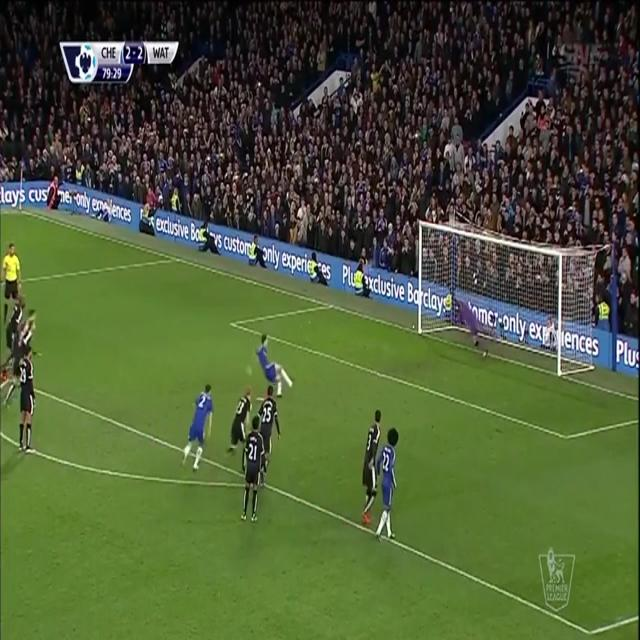Goalkeeper: (455, 298, 493, 358)
Player: (179, 379, 215, 475), (238, 415, 267, 525), (360, 407, 385, 530), (375, 422, 400, 544), (255, 331, 298, 399), (16, 347, 37, 458), (225, 384, 252, 466), (256, 383, 284, 450), (6, 291, 27, 348), (16, 306, 39, 356)
Referee: (1, 242, 23, 320)
